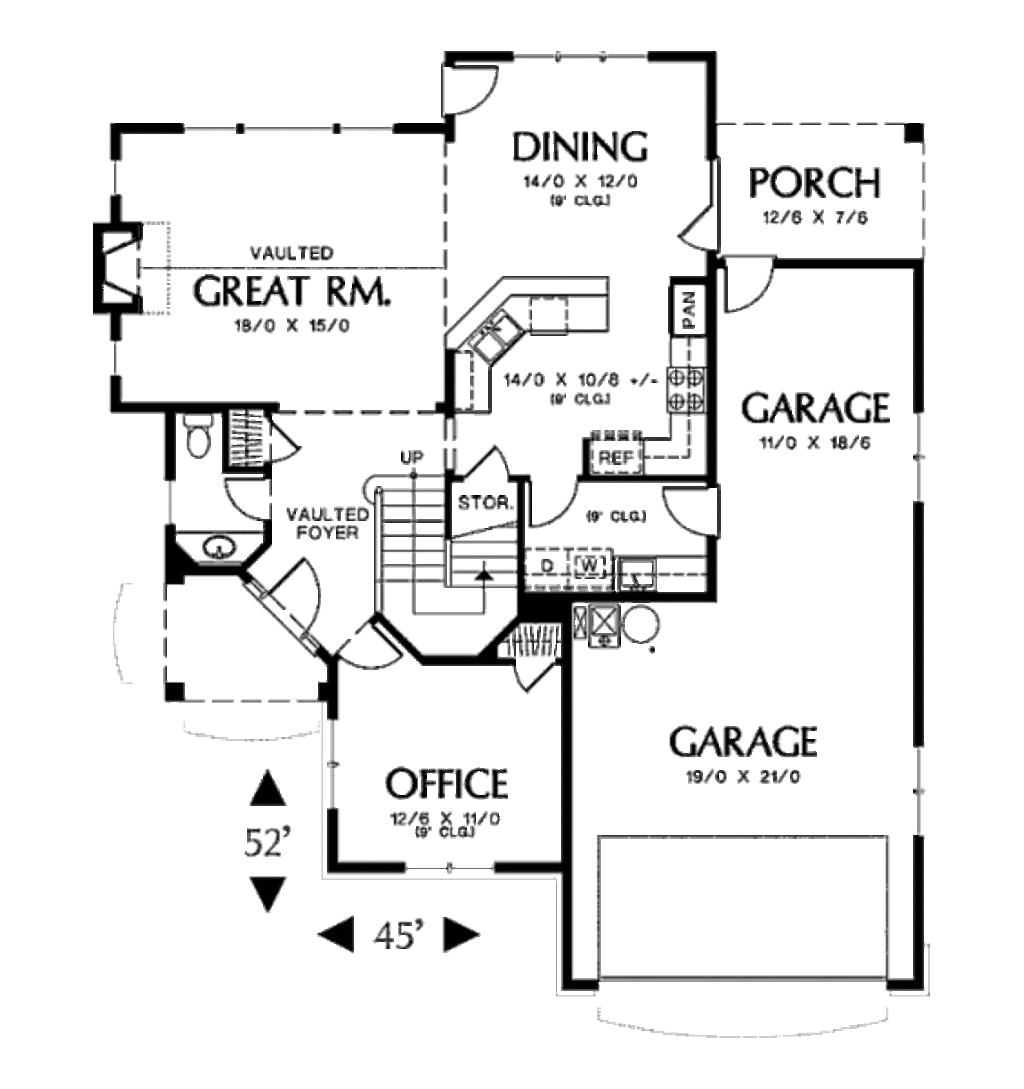door: (245, 552, 323, 641), (422, 45, 506, 122), (318, 612, 413, 678), (652, 479, 735, 541), (720, 243, 782, 323), (215, 470, 286, 532), (527, 475, 590, 533), (678, 203, 726, 260), (457, 441, 511, 478), (269, 421, 302, 464)
large_sink: (180, 405, 227, 464)
small_sink: (178, 525, 253, 563)
stairs: (377, 473, 519, 653)
twin_sink: (462, 306, 537, 377)
window: (901, 737, 941, 836), (901, 405, 935, 503), (392, 857, 500, 884), (513, 45, 645, 67)
